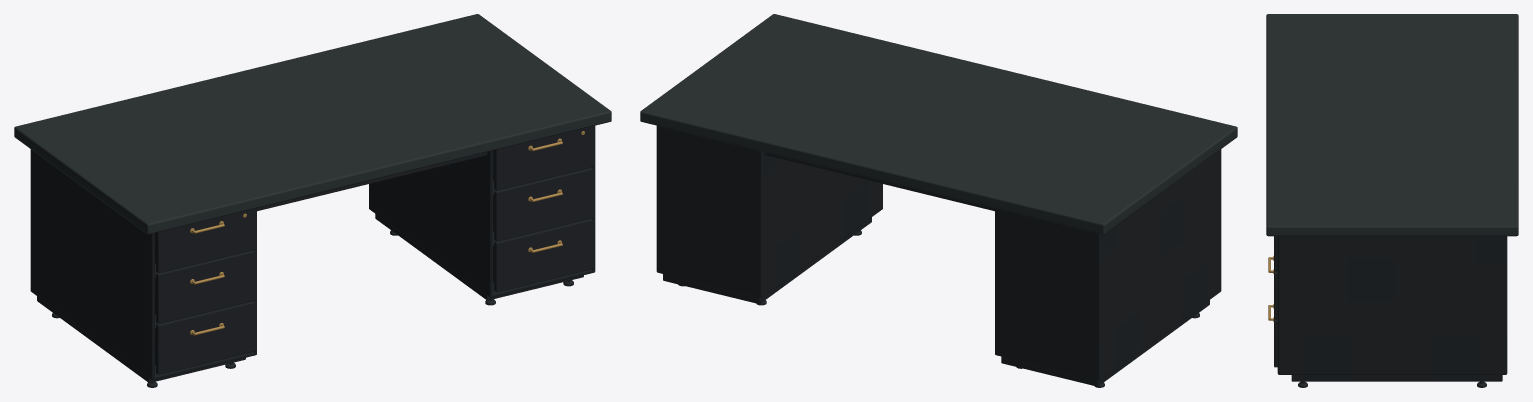
Rendered from desk.glb.
3 views of the same model, side by side, from view 1: azimuth 30°, elevation 25°; view 2: azimuth 150°, elevation 25°; view 3: azimuth 270°, elevation 25° (orthographic). The views are drawn at different scales.
Parts seen in each view (by area): view 1: office_desk_linoleum, office_desk_steel, drawer_right_3_steel, drawer_right_2_steel, drawer_left_3_steel, drawer_left_2_steel, drawer_right_1_steel, drawer_left_1_steel; view 2: office_desk_linoleum, office_desk_steel; view 3: office_desk_linoleum, office_desk_steel.
Part boxes in pixels (box(x1,y1,x2,y2)): office_desk_linoleum: box(14, 14, 611, 234); office_desk_steel: box(30, 125, 595, 387); drawer_right_3_steel: box(493, 218, 593, 292); drawer_right_2_steel: box(493, 167, 593, 241); drawer_left_3_steel: box(155, 301, 254, 374); drawer_left_2_steel: box(155, 250, 254, 323); drawer_right_1_steel: box(493, 126, 593, 190); drawer_left_1_steel: box(155, 208, 254, 272); office_desk_linoleum: box(640, 14, 1237, 234); office_desk_steel: box(656, 125, 1221, 387); office_desk_linoleum: box(1266, 14, 1518, 236); office_desk_steel: box(1277, 236, 1507, 387).
Size of the model in its own units: 2.2 by 0.82 by 1.1.
4 materials, 4 textured.
